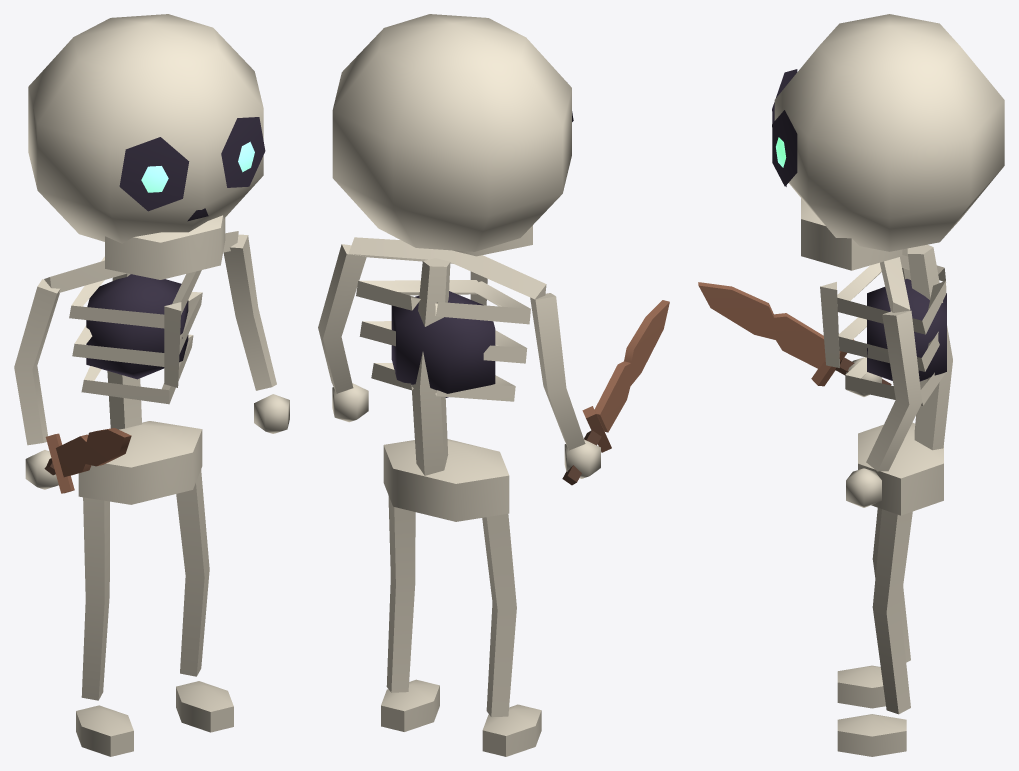
Rendered from skeleton-warrior.glb.
3 views of the same model, side by side, from view 1: azimuth 30°, elevation 25°; view 2: azimuth 150°, elevation 25°; view 3: azimuth 270°, elevation 25° (orthographic). The views are drawn at different scales.
Parts seen in each view (by area): view 1: head, body, arm_r, leg_r, leg_l, arm_l, glow_eyes; view 2: head, body, arm_r, leg_r, leg_l, arm_l; view 3: head, body, leg_l, arm_l, arm_r, leg_r.
Boxes of the visible parts, x1,y1,x2,y2 form: head: (28, 14, 265, 279); body: (44, 231, 238, 504); arm_r: (14, 279, 131, 493); leg_r: (76, 497, 133, 756); leg_l: (176, 469, 233, 732); arm_l: (223, 234, 289, 433); glow_eyes: (141, 141, 254, 192); head: (332, 14, 573, 256); body: (348, 237, 546, 521); arm_r: (530, 293, 669, 485); leg_r: (482, 514, 541, 756); leg_l: (381, 495, 439, 731); arm_l: (318, 244, 368, 422); head: (772, 14, 1004, 270); body: (820, 244, 952, 515); leg_l: (837, 509, 912, 756); arm_l: (846, 310, 922, 507); arm_r: (698, 248, 910, 396); leg_r: (837, 508, 910, 708).
Size of the model in its own units: 0.3042 by 0.798 by 0.3138.
